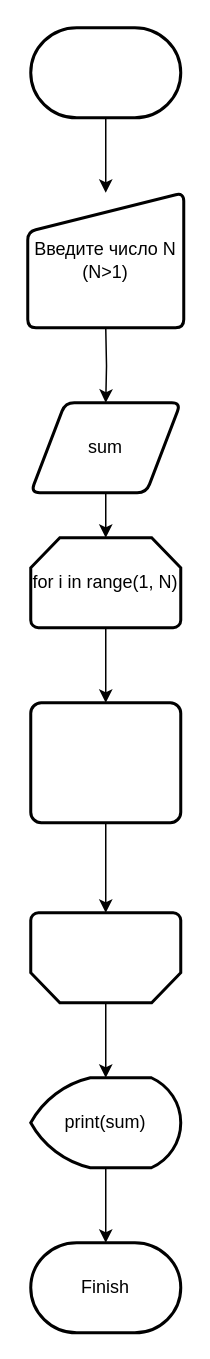
Some shapes in this 210 by 1359 pixel diagram are drawn without their labels. Each missing label, with the box of its shape:
Start: (28, 26, 182, 118)
sum = sum + i: (28, 700, 182, 824)
конец цикла: (28, 910, 182, 1004)
